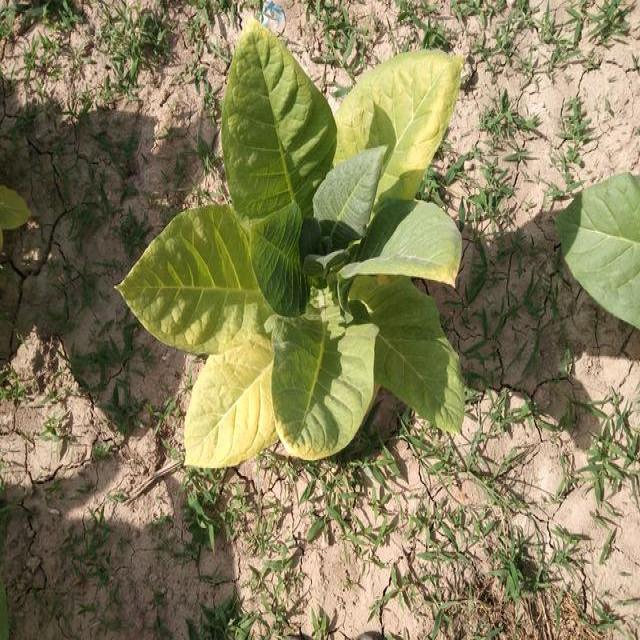crop: (118, 17, 480, 460)
